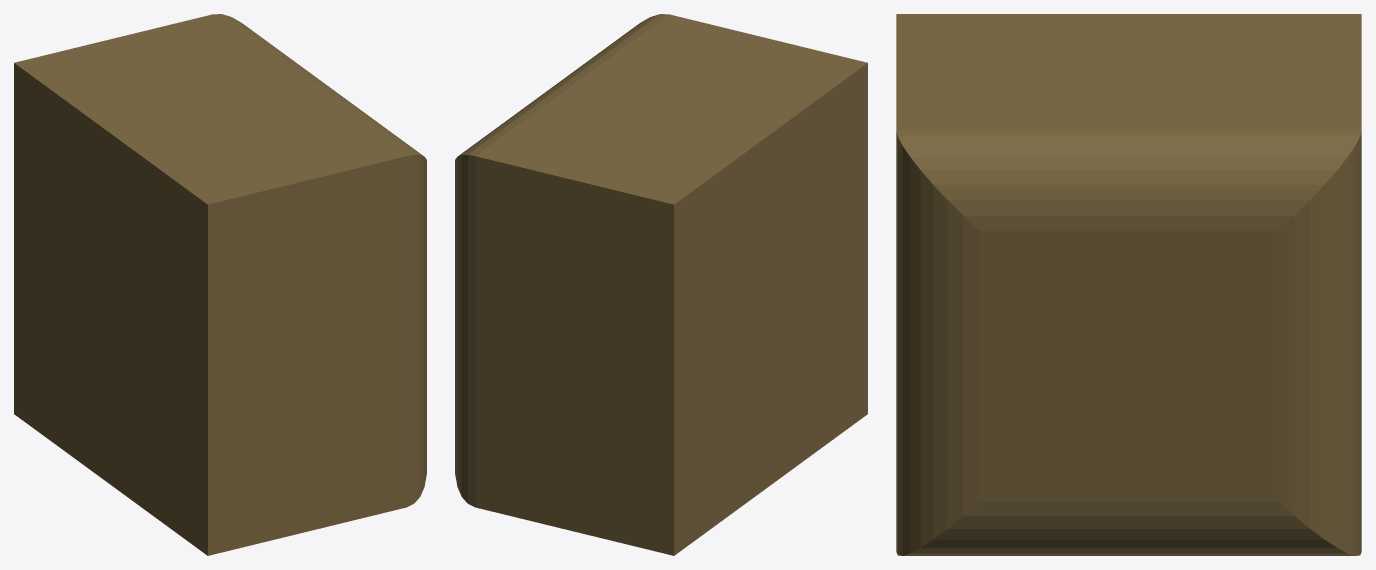
Rendered from button_2.glb.
3 views of the same model, side by side, from view 1: azimuth 30°, elevation 25°; view 2: azimuth 150°, elevation 25°; view 3: azimuth 270°, elevation 25° (orthographic). The views are drawn at different scales.
Visible parts, largest first — view 1: Кнопка 3; view 2: Кнопка 3; view 3: Кнопка 3.
Part boxes in pixels (x1=…): Кнопка 3: x1=14, y1=14, x2=426, y2=555; Кнопка 3: x1=455, y1=14, x2=867, y2=555; Кнопка 3: x1=896, y1=14, x2=1361, y2=555.
Size of the model in its own units: 0.4873 by 0.6766 by 0.6766.
